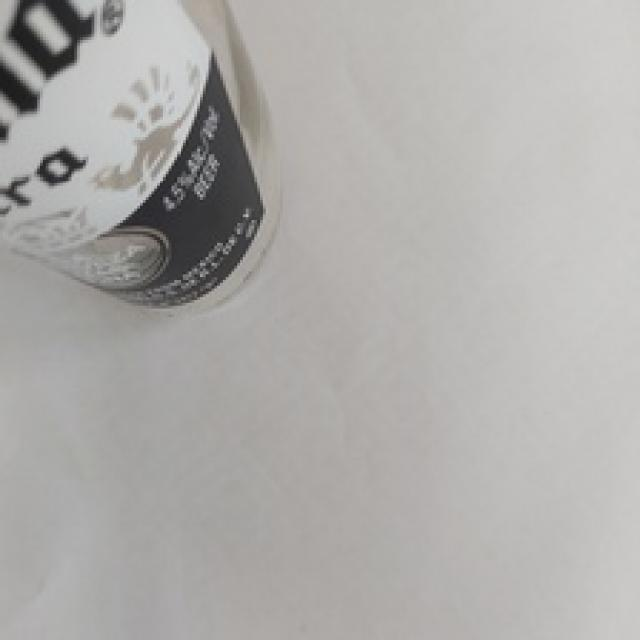garbage: (0, 0, 308, 290)
